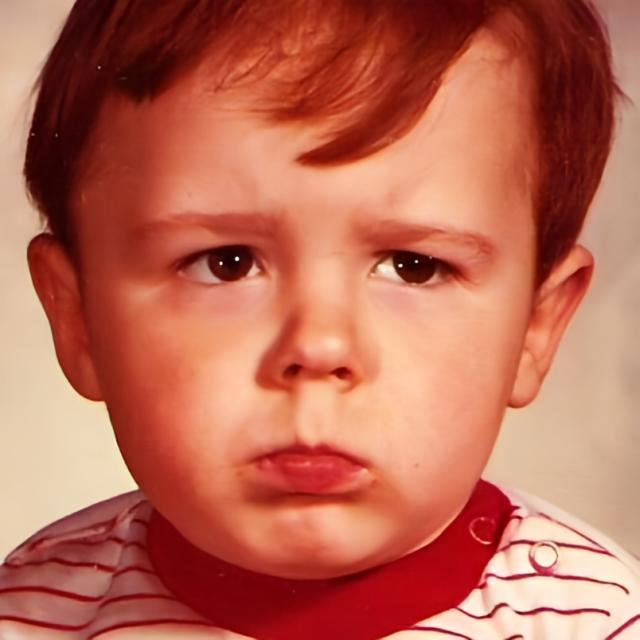sad: (74, 32, 534, 580)
